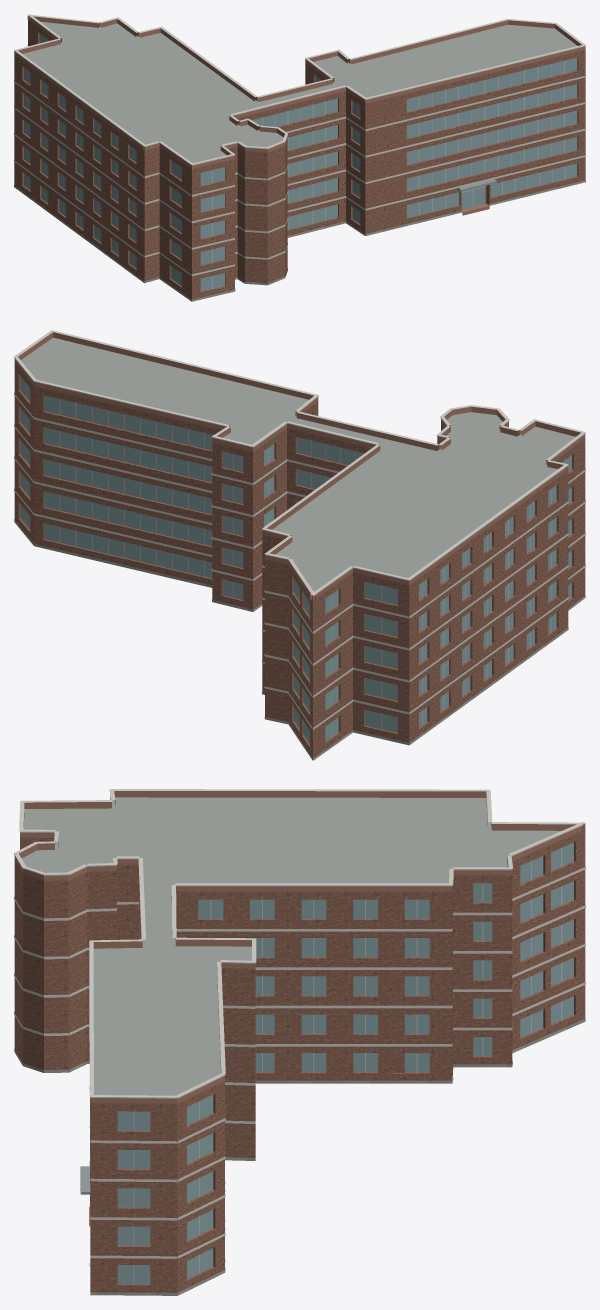
3 views of the same model, one above another, from view 1: azimuth 30°, elevation 25°; view 2: azimuth 150°, elevation 25°; view 3: azimuth 270°, elevation 25° (orthographic). The views are drawn at different scales.
Parts seen in each view (by area): view 1: w17__wall, w17__roof, w17__glass, w17__trim, w17__parapet, w17__frame, w17__base; view 2: w17__wall, w17__roof, w17__glass, w17__trim, w17__parapet, w17__frame, w17__base; view 3: w17__wall, w17__roof, w17__glass, w17__trim, w17__parapet, w17__base, w17__frame.
Boxes of the visible parts, x1=… form: w17__wall: x1=14, y1=20, x2=585, y2=301; w17__roof: x1=23, y1=21, x2=576, y2=163; w17__glass: x1=24, y1=34, x2=577, y2=291; w17__trim: x1=14, y1=14, x2=585, y2=275; w17__parapet: x1=14, y1=16, x2=585, y2=168; w17__frame: x1=27, y1=38, x2=565, y2=288; w17__base: x1=14, y1=180, x2=585, y2=301; w17__wall: x1=14, y1=362, x2=585, y2=760; w17__roof: x1=21, y1=337, x2=575, y2=591; w17__glass: x1=20, y1=376, x2=571, y2=743; w17__trim: x1=14, y1=330, x2=585, y2=729; w17__parapet: x1=14, y1=332, x2=585, y2=600; w17__frame: x1=26, y1=383, x2=565, y2=737; w17__base: x1=14, y1=519, x2=585, y2=760; w17__wall: x1=14, y1=797, x2=585, y2=1295; w17__roof: x1=21, y1=797, x2=560, y2=1295; w17__glass: x1=117, y1=842, x2=573, y2=1284; w17__trim: x1=14, y1=789, x2=585, y2=1258; w17__parapet: x1=14, y1=791, x2=585, y2=1103; w17__base: x1=14, y1=1018, x2=585, y2=1295; w17__frame: x1=133, y1=848, x2=562, y2=1283.
Bounding box in the file's own units: 60.34 × 18.5 × 47.28.
10 materials, 2 textured.
